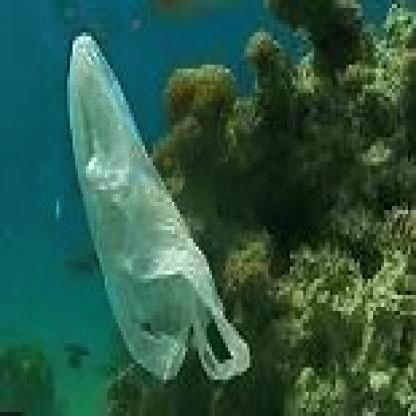plastic: (46, 40, 256, 400)
